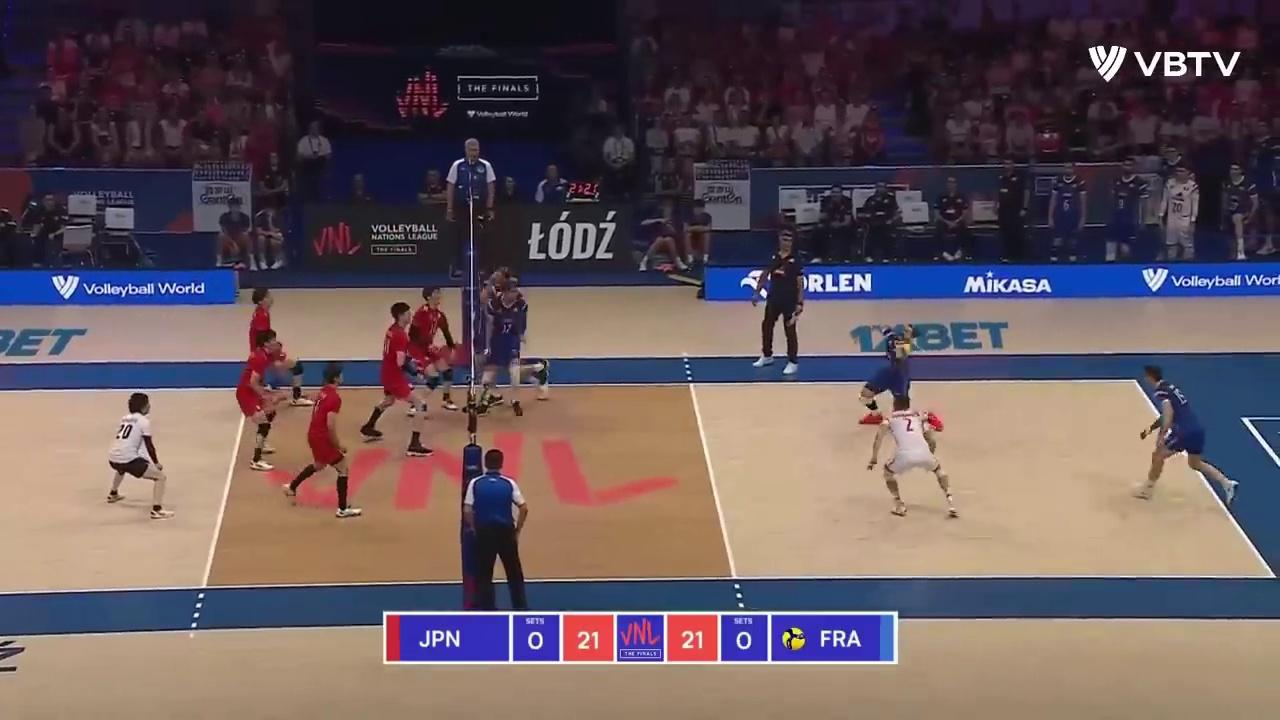ball: (895, 343, 912, 361)
